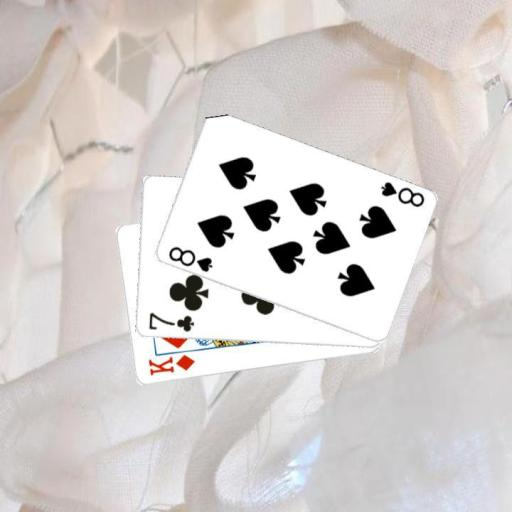7C: (145, 310, 195, 334)
8S: (165, 243, 214, 274), (377, 179, 426, 209)
KD: (145, 351, 197, 377)
